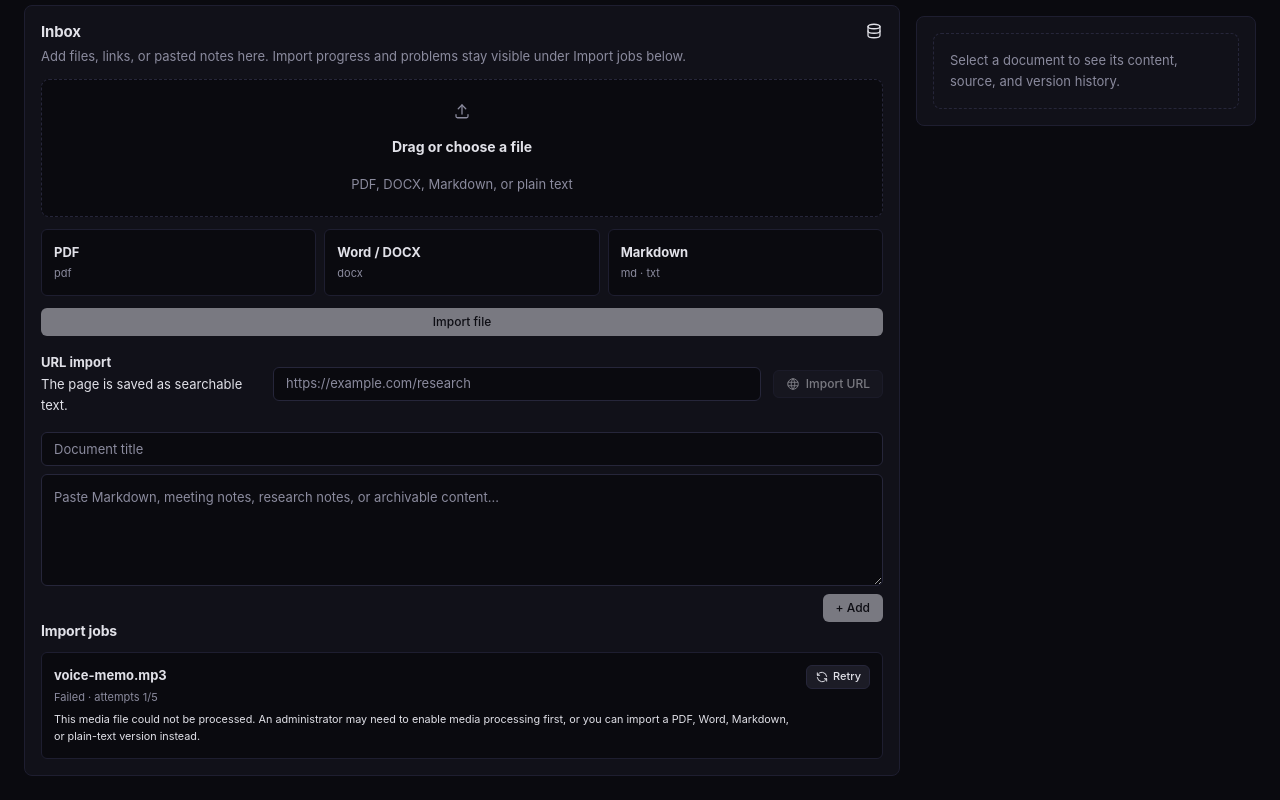
Test case: PersonalKnowledge media import failure recovery (mounted) › explains the prerequisites and sends exactly one retry request for a retryable media failure
(page scrolled)
Expected: the text "voice-memo.mp3" is shown, [54,666,167,682]
Expected: the text "plain-text version instead" is shown, [54,713,789,743]
Click the button "Retry". click: (838, 676)
box: [806,664,870,688]
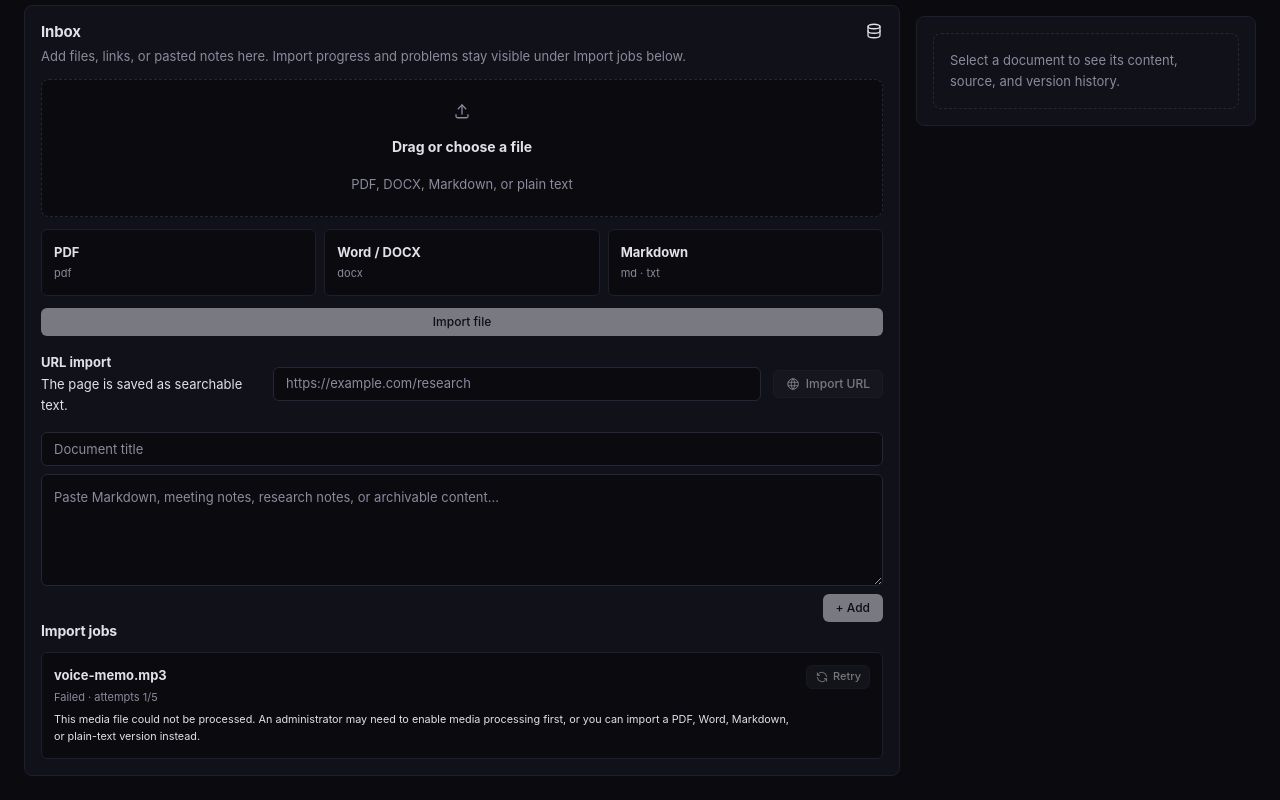
Expected: the button "Retry" is disabled
Click the button "Retry". click: (838, 676)
box: [806,664,870,688]
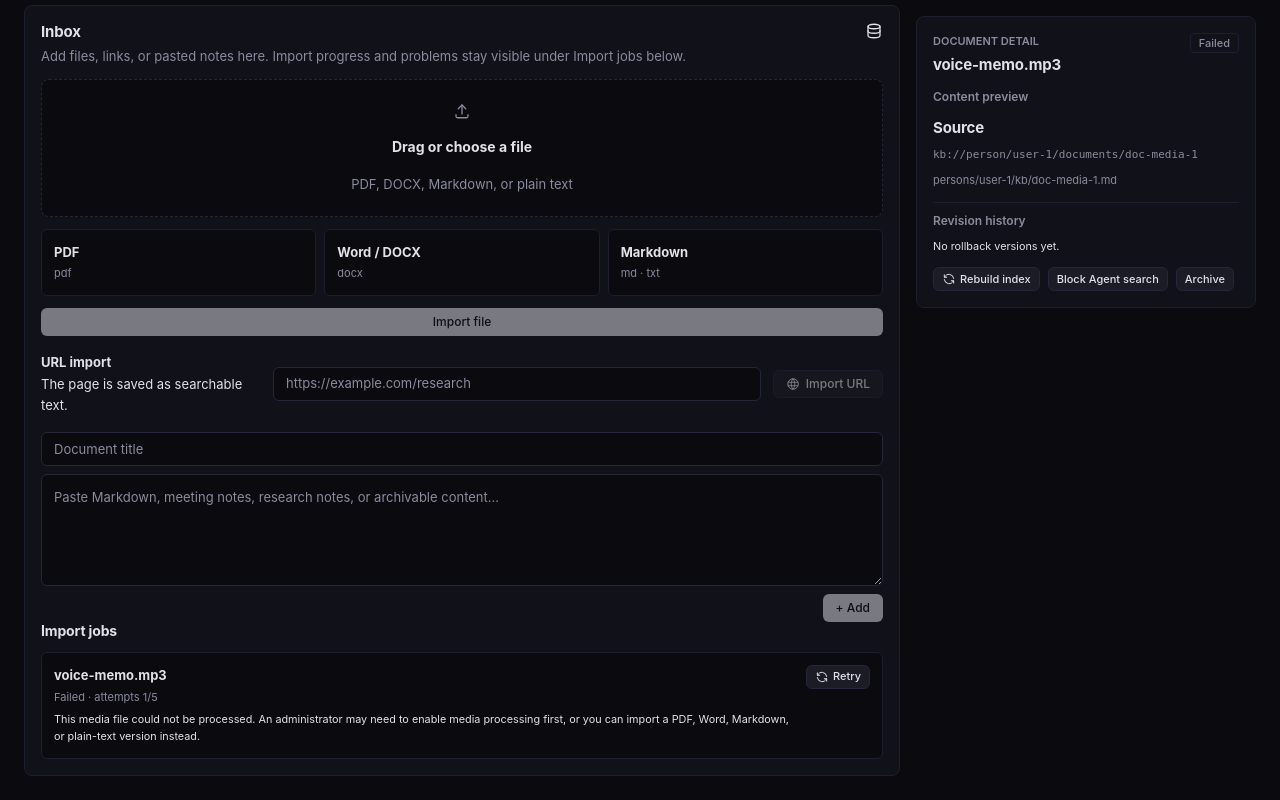
Expected: the button "Retry" is enabled, [806,664,870,688]
